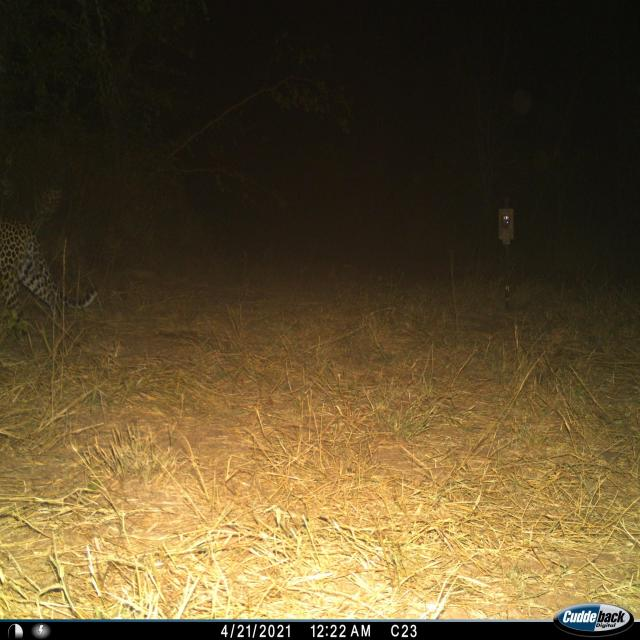Leopard: (3, 199, 73, 340)
